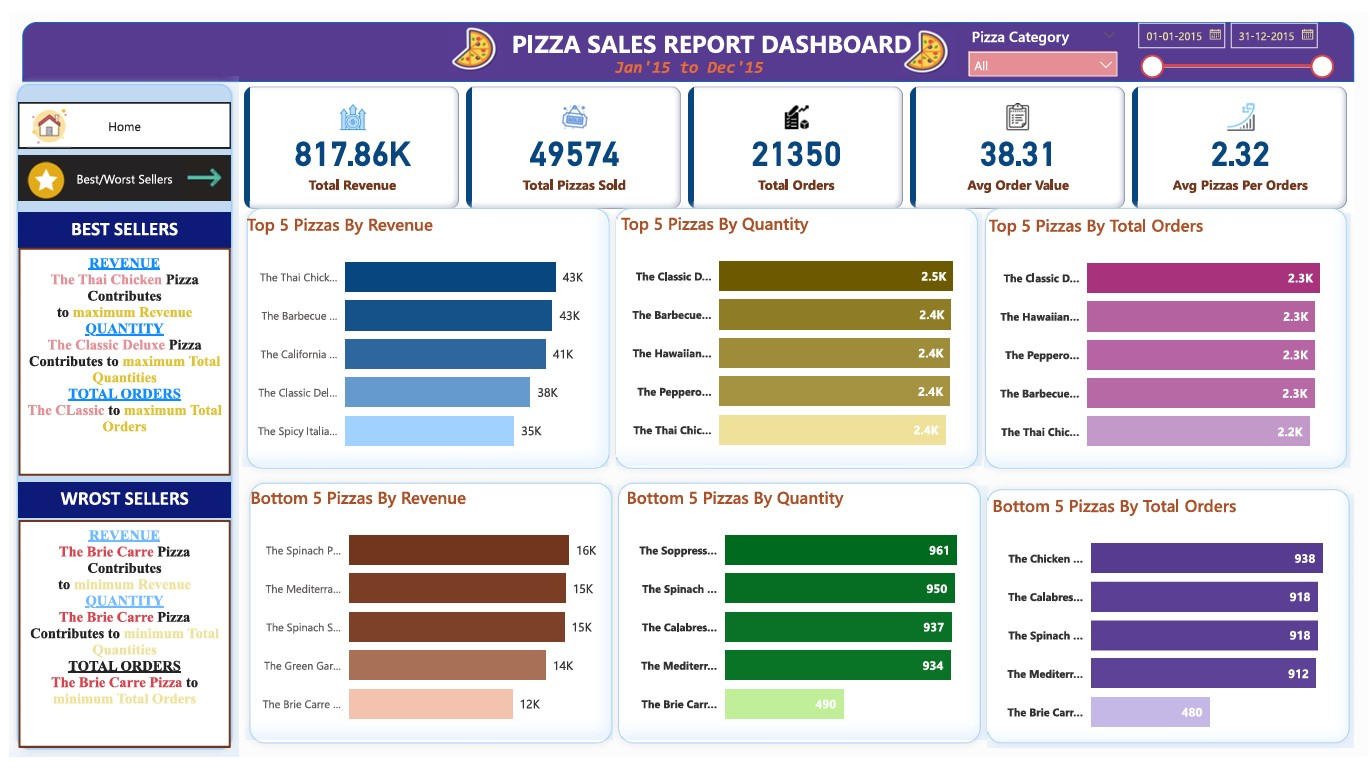

The page's visual inventory and layout, read from the dashboard file:
{"tool":"powerbi","page":{"name":"Best/Worst Sellers","canvas":[1500,820],"ordinal":1},"visuals":[{"type":"cardVisual","fields":{"Data":["pizza_sales.Total Revenue","pizza_sales.Total Pizzas Sold","pizza_sales.Total Orders","pizza_sales.Avg Order Value","pizza_sales.Avg Pizzas Per Orders"]},"box":[254.3,75.7,1230,145.7],"z":0},{"type":"shape","box":[14.3,10,1470,65.7],"z":1000},{"type":"textbox","box":[535.7,10,478.6,50],"z":2000},{"type":"textbox","box":[637.1,44.3,225.7,31.4],"z":3000},{"type":"image","box":[480,10,70,60],"z":4000},{"type":"image","box":[978.6,12.9,70,60],"z":5000},{"type":"shape","box":[254.3,207.1,415.7,302.9],"z":6000},{"type":"shape","box":[0,70,254.3,750],"z":9000},{"type":"textbox","box":[10,220,234.3,38.6],"z":17000},{"type":"textbox","box":[10,258.6,234.3,251.4],"z":18000},{"type":"textbox","box":[10,517.1,234.3,38.6],"z":19000},{"type":"textbox","box":[10,558.6,234.3,251.4],"z":20000},{"type":"slicer","fields":{"Values":["pizza_sales.pizza_category"]},"box":[1048.6,10,184.3,60],"z":21000},{"type":"slicer","fields":{"Values":["pizza_sales.order_date"]},"box":[1232.9,1.4,237.1,75.7],"z":22000},{"type":"shape","box":[661.4,207.1,415.7,302.9],"z":22001},{"type":"shape","box":[1068.6,207.1,415.7,302.9],"z":22002},{"type":"shape","box":[257.1,510,415.7,302.9],"z":22003},{"type":"shape","box":[664.3,510,415.7,302.9],"z":22004},{"type":"shape","box":[1071.4,517.1,415.7,295.7],"z":22005},{"type":"barChart","title":"Top 5 Pizzas By Revenue","fields":{"Category":["pizza_sales.pizza_name"],"Y":["pizza_sales.Total Revenue"]},"box":[257.1,220,404.3,280],"z":22006},{"type":"barChart","title":"Bottom 5 Pizzas By Revenue","fields":{"Category":["pizza_sales.pizza_name"],"Y":["pizza_sales.Total Revenue"]},"box":[261.4,521.4,404.3,280],"z":22007},{"type":"barChart","title":"Top 5 Pizzas By Quantity","fields":{"Category":["pizza_sales.pizza_name"],"Y":["pizza_sales.Total Pizzas Sold"]},"box":[670,218.6,404.3,280],"z":22008},{"type":"barChart","title":"Bottom 5 Pizzas By Quantity","fields":{"Category":["pizza_sales.pizza_name"],"Y":["pizza_sales.Total Pizzas Sold"]},"box":[675.7,521.4,404.3,280],"z":22009},{"type":"barChart","title":"Top 5 Pizzas By Total Orders","fields":{"Category":["pizza_sales.pizza_name"],"Y":["pizza_sales.Total Orders"]},"box":[1075.7,221.4,404.3,280],"z":22010},{"type":"barChart","title":"Bottom 5 Pizzas By Total Orders","fields":{"Category":["pizza_sales.pizza_name"],"Y":["pizza_sales.Total Orders"]},"box":[1080,530,404.3,280],"z":22011},{"type":"pageNavigator","box":[10,157.1,234.3,50],"z":22012},{"type":"pageNavigator","box":[10,98.6,234.3,50],"z":22013},{"type":"image","box":[187.1,152.9,57.1,57.1],"z":22014},{"type":"image","box":[14.3,95.7,58.6,58.6],"z":22015},{"type":"image","box":[14.3,158.6,51.4,51.4],"z":22016}]}

Visuals, with their boxes in screenshot pixels (x1, y1, x2, y2), scaled from the page's 1500x820 canvas onto the 1371x772 screenshot:
cardVisual - pizza_sales.Total Revenue x pizza_sales.Total Pizzas Sold: (232,71,1357,208)
shape: (13,9,1357,71)
textbox: (490,9,927,56)
textbox: (582,42,789,71)
image: (439,9,503,66)
image: (894,12,958,69)
shape: (232,195,612,480)
shape: (0,66,232,771)
textbox: (9,207,223,243)
textbox: (9,243,223,480)
textbox: (9,487,223,523)
textbox: (9,526,223,763)
slicer - pizza_sales.pizza_category: (958,9,1127,66)
slicer - pizza_sales.order_date: (1127,1,1344,73)
shape: (605,195,984,480)
shape: (977,195,1357,480)
shape: (235,480,615,765)
shape: (607,480,987,765)
shape: (979,487,1359,765)
"Top 5 Pizzas By Revenue" barChart: (235,207,605,471)
"Bottom 5 Pizzas By Revenue" barChart: (239,491,608,754)
"Top 5 Pizzas By Quantity" barChart: (612,206,982,469)
"Bottom 5 Pizzas By Quantity" barChart: (618,491,987,754)
"Top 5 Pizzas By Total Orders" barChart: (983,208,1353,472)
"Bottom 5 Pizzas By Total Orders" barChart: (987,499,1357,763)
pageNavigator: (9,148,223,195)
pageNavigator: (9,93,223,140)
image: (171,144,223,198)
image: (13,90,67,145)
image: (13,149,60,198)
